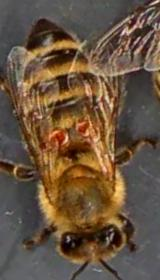varroa_mite: (38, 125, 71, 154), (73, 111, 99, 146)
